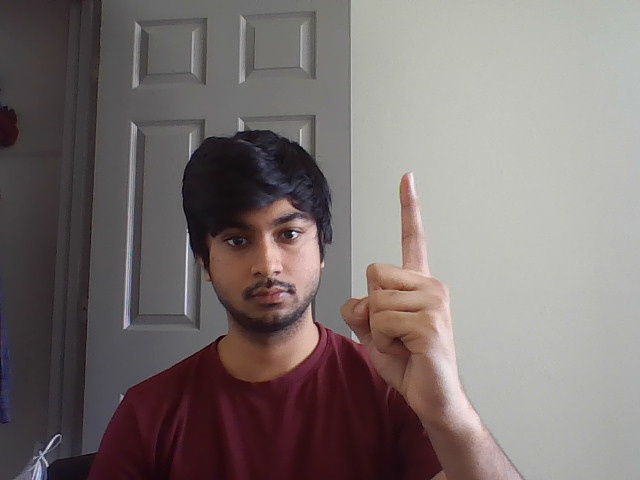one: (340, 163, 474, 381)
